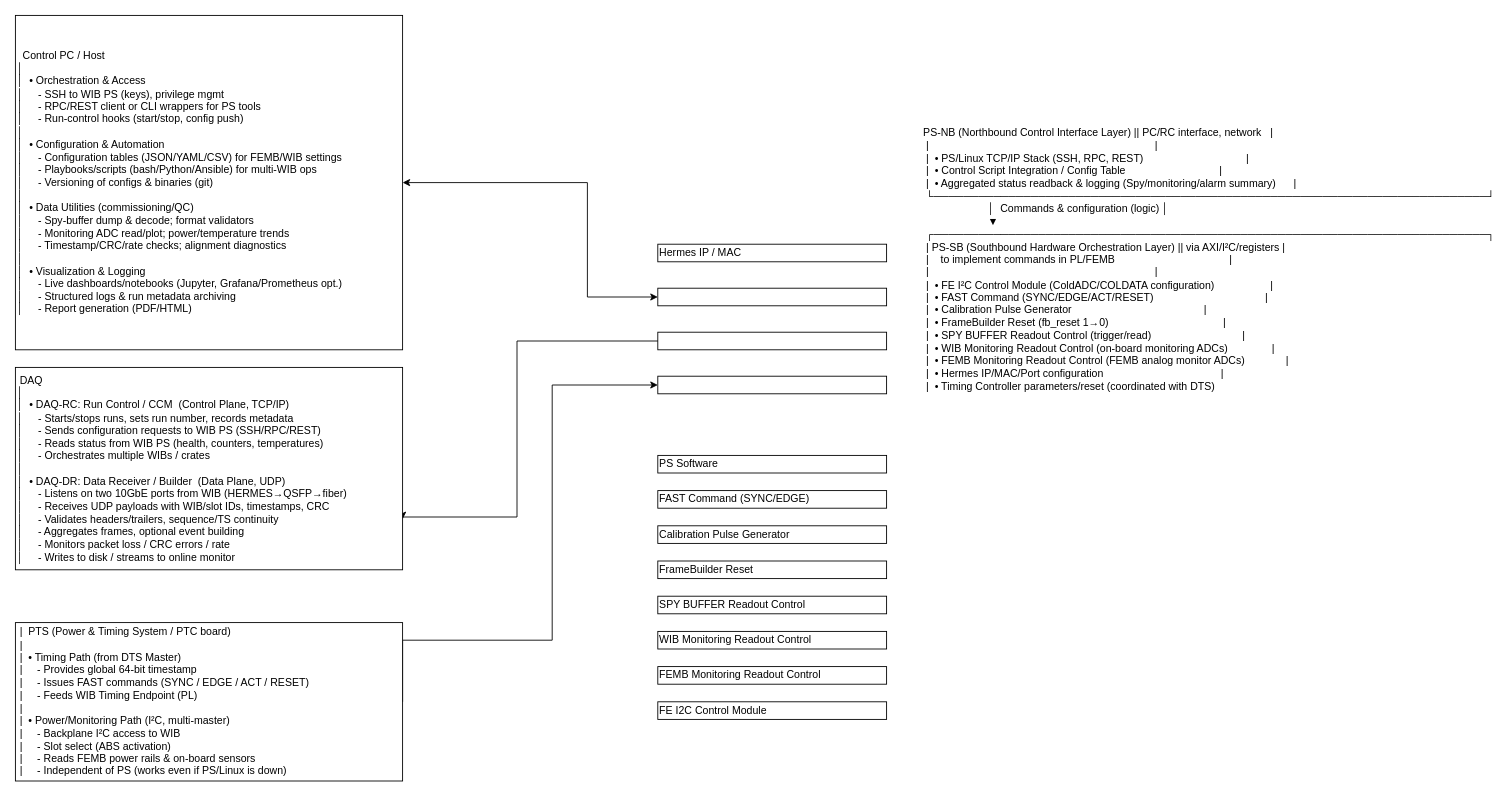
The diagram is 1510 pixels wide and 796 high, and some of its shapes have lost their labels. The shapes that lost their labels are listed below. From the top down, each one's box as (x1, y1, x2, y2) in pixels, then its label:
(657, 287, 887, 306): PS/Linux TCP/IP Stack (SSH, RPC)
(657, 331, 887, 350): HERMES (10GbE) → GTH SerDes [UDP]
(657, 375, 887, 394): Timing Controller [From PTC DTS Master]
